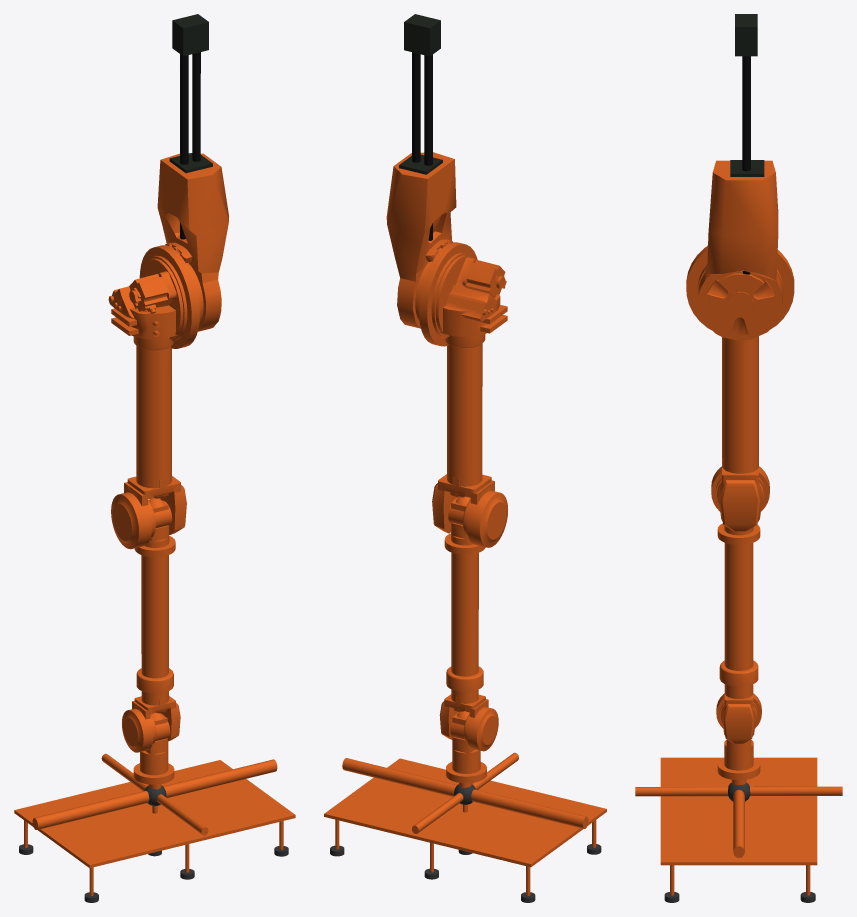
File: jxsqiang6218.FBX
3 renders of one model, left to right at view 1: azimuth 30°, elevation 25°; view 2: azimuth 150°, elevation 25°; view 3: azimuth 270°, elevation 25°, orthographic. The views are drawn at different scales.
Parts seen in each view (by area): view 1: jxsxipangqiang, jxszhutishangqiang, jxszhutitouqiang, jxszhutixiaqiang, jxsxiantouqiang, jxstouqiang; view 2: jxsxipangqiang, jxszhutishangqiang, jxszhutitouqiang, jxszhutixiaqiang, jxsxiantouqiang, jxstouqiang; view 3: jxsxipangqiang, jxszhutishangqiang, jxszhutitouqiang, jxszhutixiaqiang, jxsxiantouqiang, jxstouqiang.
Part boxes in pixels (box(x1,y1,x2,y2)): jxsxipangqiang: box(14, 753, 295, 902); jxszhutishangqiang: box(108, 245, 203, 549); jxszhutitouqiang: box(157, 153, 228, 331); jxszhutixiaqiang: box(122, 498, 180, 752); jxsxiantouqiang: box(172, 14, 208, 239); jxstouqiang: box(133, 712, 174, 784); jxsxipangqiang: box(324, 752, 606, 902); jxszhutishangqiang: box(415, 242, 507, 547); jxszhutitouqiang: box(386, 152, 456, 328); jxszhutixiaqiang: box(439, 496, 498, 751); jxsxiantouqiang: box(404, 14, 440, 261); jxstouqiang: box(446, 711, 486, 783); jxsxipangqiang: box(635, 757, 842, 902); jxszhutishangqiang: box(686, 245, 794, 531); jxszhutitouqiang: box(698, 160, 782, 340); jxszhutixiaqiang: box(716, 523, 761, 743); jxsxiantouqiang: box(735, 14, 757, 274); jxstouqiang: box(717, 739, 760, 780).
Size of the model in its own units: 1.09 by 3.55 by 0.7845.
